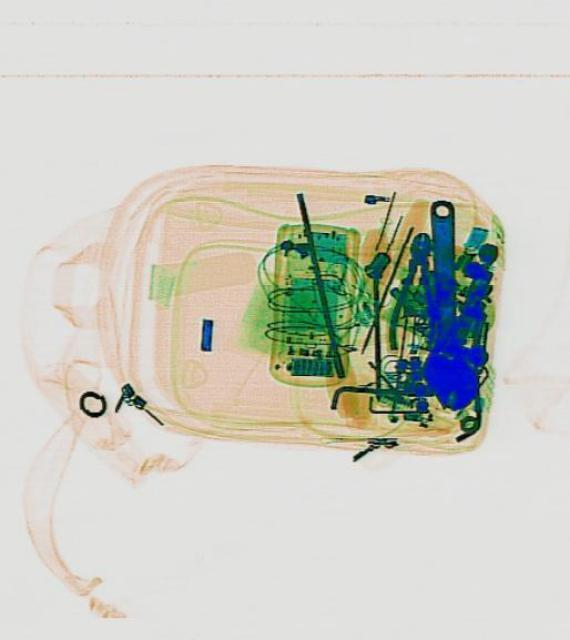Pliers: (383, 228, 444, 352)
Wrench: (413, 197, 476, 411)
